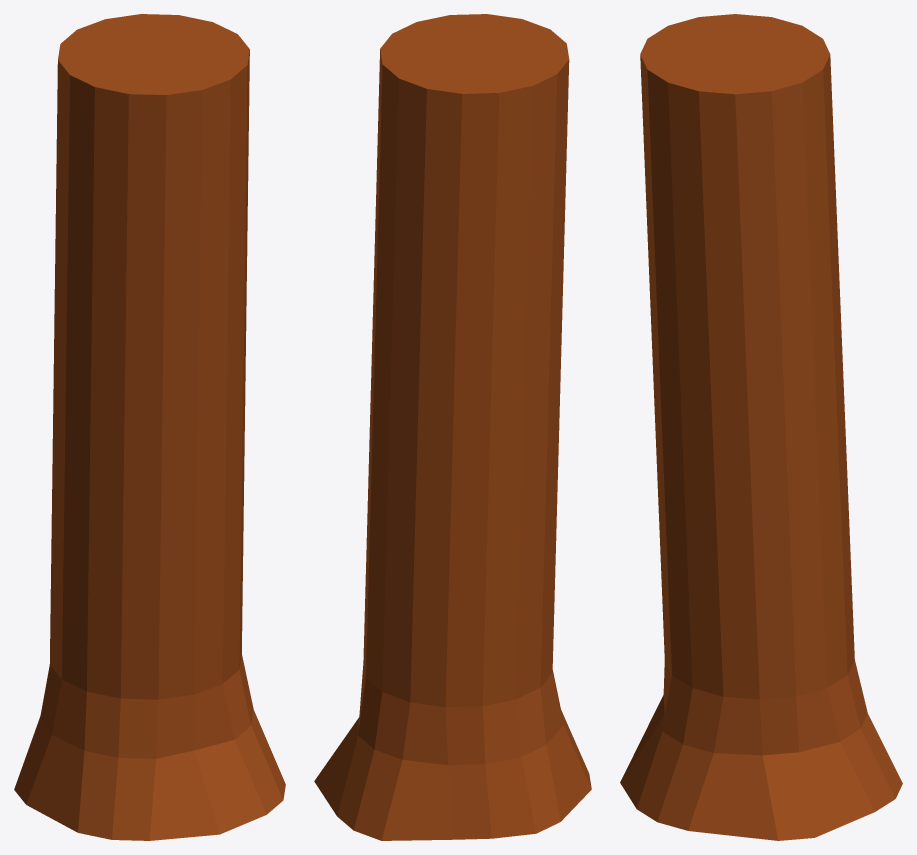
File: agac_kok.fbx
The picture shows the model from 3 angles, left to right: view 1: azimuth 30°, elevation 25°; view 2: azimuth 150°, elevation 25°; view 3: azimuth 270°, elevation 25°; orthographic projection.
Visible parts, largest first — view 1: Cylinder.013; view 2: Cylinder.013; view 3: Cylinder.013.
Part boxes in pixels (x1=…): Cylinder.013: x1=14, y1=14, x2=285, y2=840; Cylinder.013: x1=314, y1=14, x2=591, y2=840; Cylinder.013: x1=620, y1=14, x2=902, y2=840.
Bounding box in the file's own units: 282 × 842 × 298.
